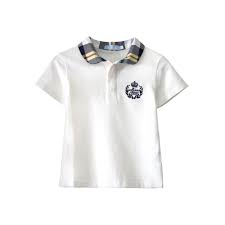C_polo shirt: (42, 35, 188, 196)
